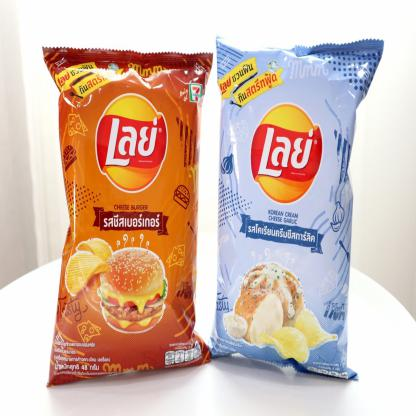potatochip: (202, 34, 388, 388), (32, 38, 216, 394)
